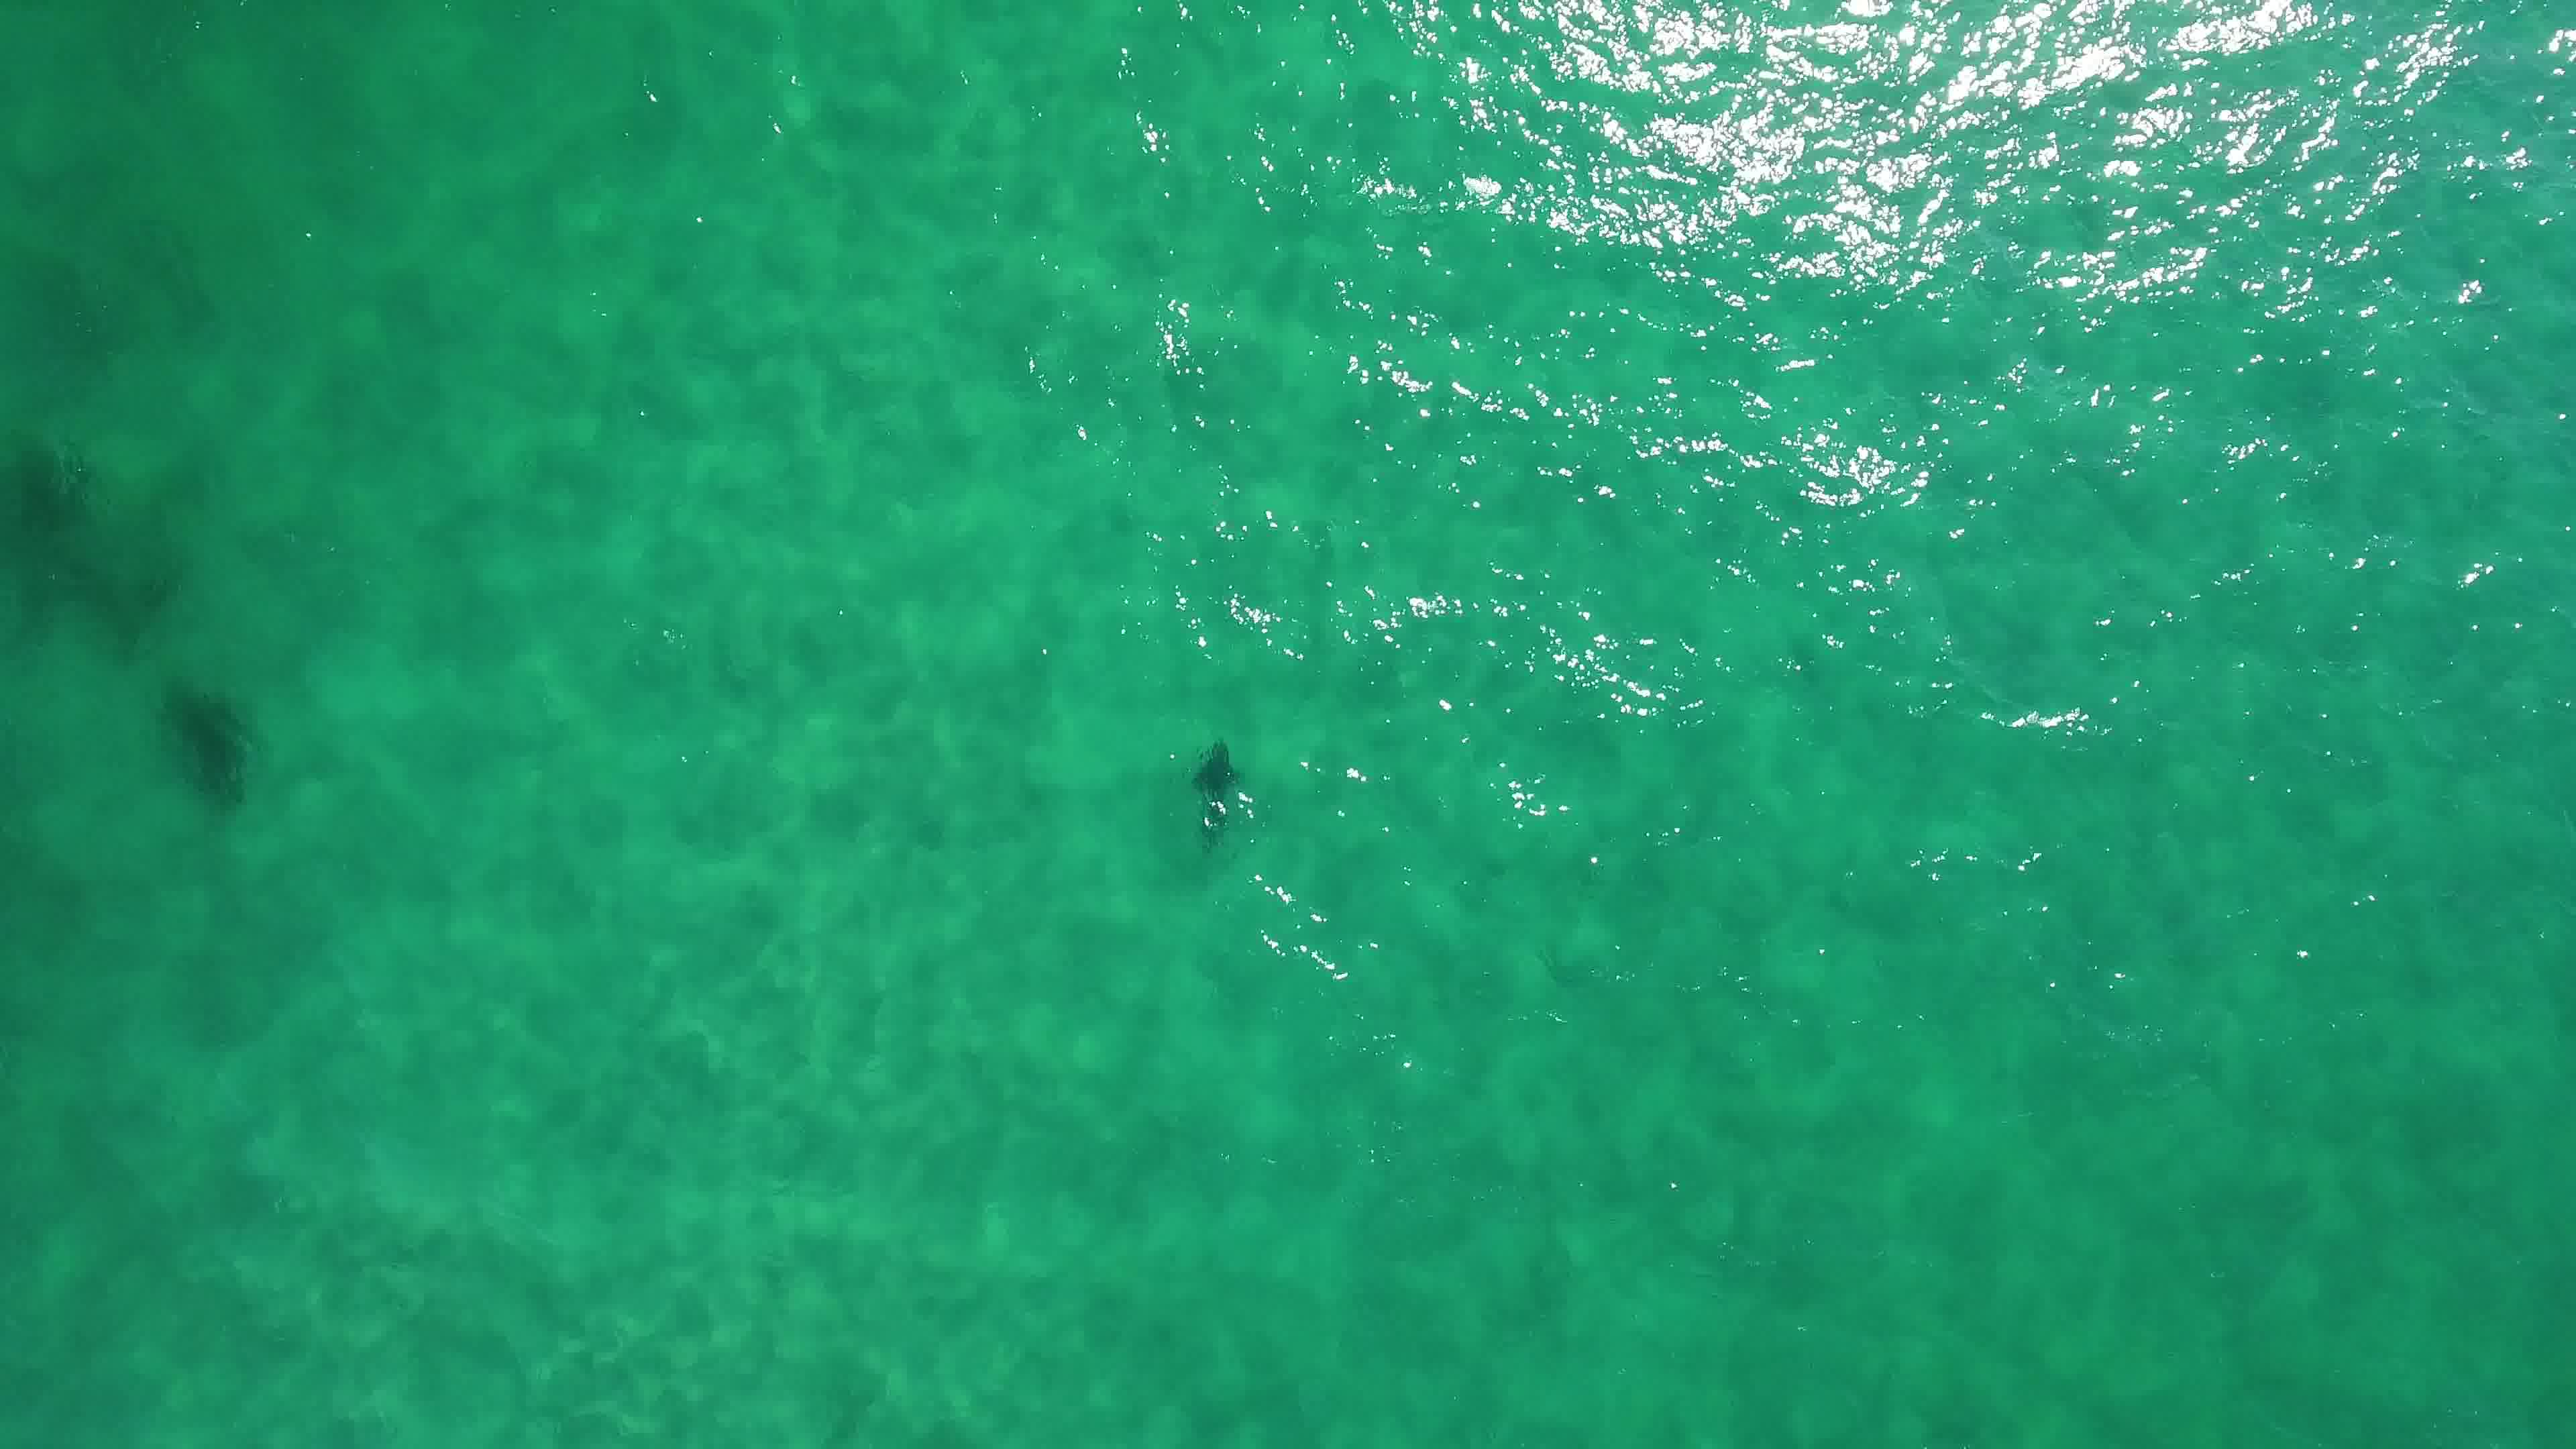shark: (1184, 732, 1249, 858)
